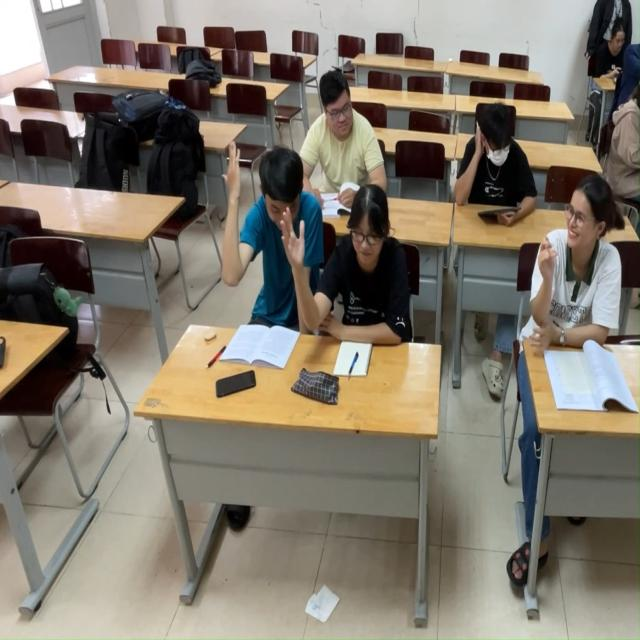raise_hand: (290, 197, 405, 382), (224, 135, 291, 383)
